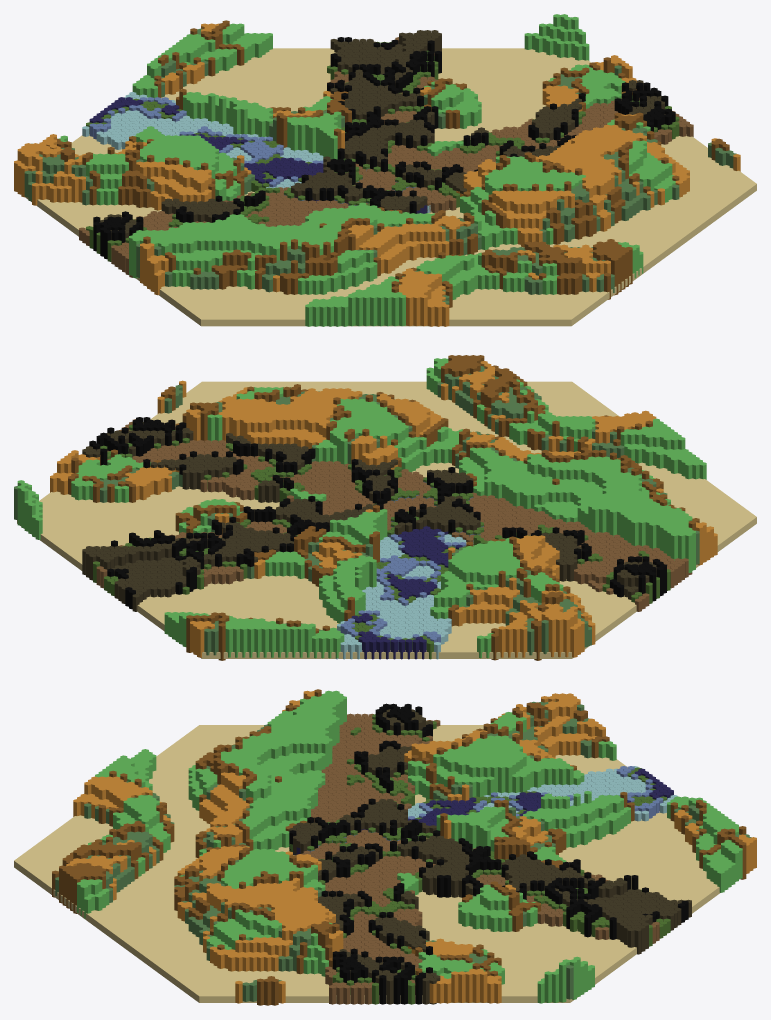
The model's file is 0044_tile_1210112.fbx.
3 views of the same model, one above another, from view 1: azimuth 30°, elevation 25°; view 2: azimuth 150°, elevation 25°; view 3: azimuth 270°, elevation 25° (orthographic).
Parts seen in each view (by area): view 1: Plane; view 2: Plane; view 3: Plane.
Part boxes in pixels (x1=…): Plane: x1=14, y1=14, x2=756, y2=326; Plane: x1=14, y1=355, x2=756, y2=660; Plane: x1=14, y1=689, x2=756, y2=1005.
Size of the model in its own units: 1008 by 77.69 by 1152.
